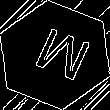M_SW: (21, 23, 89, 87)
